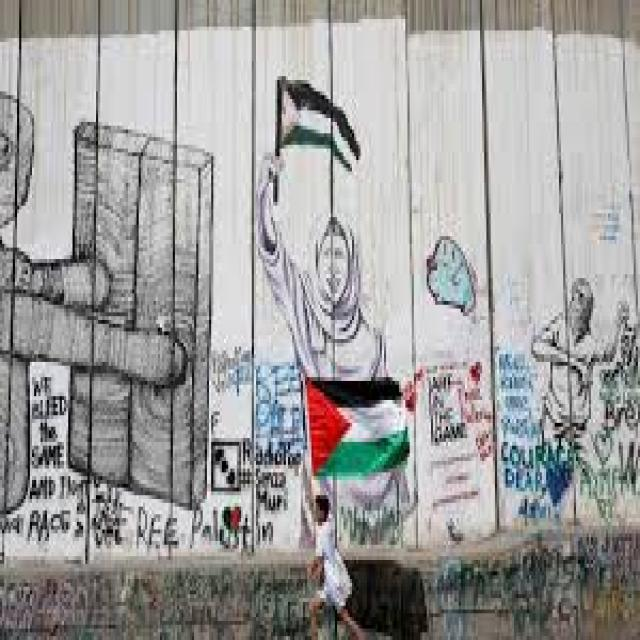-: (3, 91, 209, 508), (260, 70, 410, 550), (502, 278, 640, 524), (215, 349, 304, 523), (416, 358, 496, 517), (1, 510, 276, 554), (427, 236, 476, 325)
